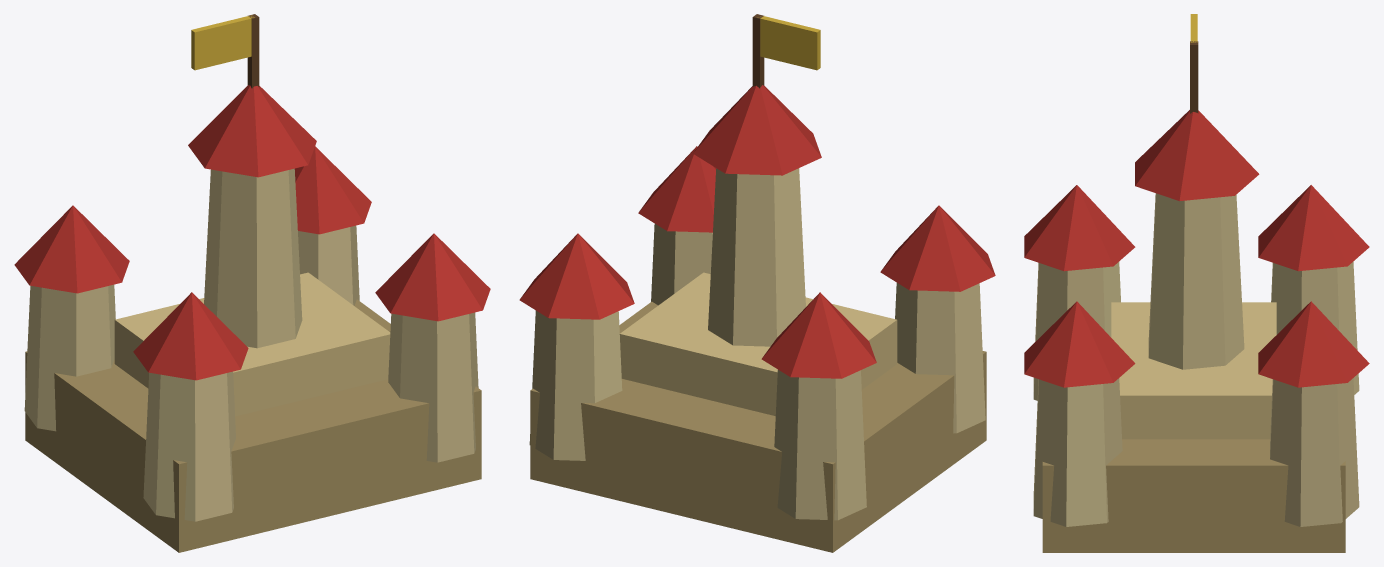
The model's file is Scatter_SandcastleSmall.fbx.
3 renders of one model, left to right at view 1: azimuth 30°, elevation 25°; view 2: azimuth 150°, elevation 25°; view 3: azimuth 270°, elevation 25°, orthographic.
Visible parts, largest first — view 1: SandcastleSmall; view 2: SandcastleSmall; view 3: SandcastleSmall.
Boxes of the visible parts, x1,y1,x2,y2 form: SandcastleSmall: (14,14,490,552); SandcastleSmall: (519,14,995,552); SandcastleSmall: (1024,14,1369,552).
Size of the model in its own units: 5.66 by 7 by 5.02.
